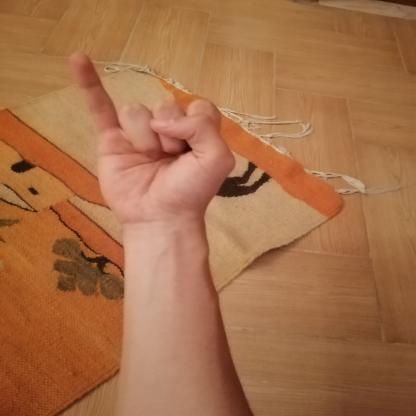MEEM: (48, 41, 249, 236)
